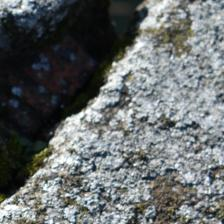Crack: (4, 2, 158, 203)
